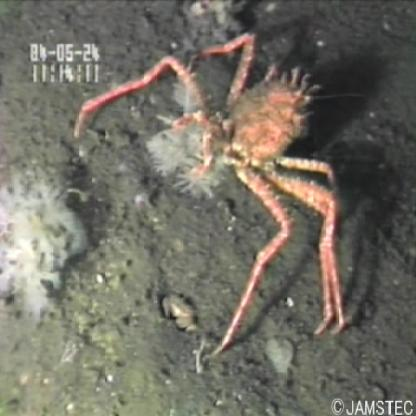Bio: (69, 27, 351, 362)
